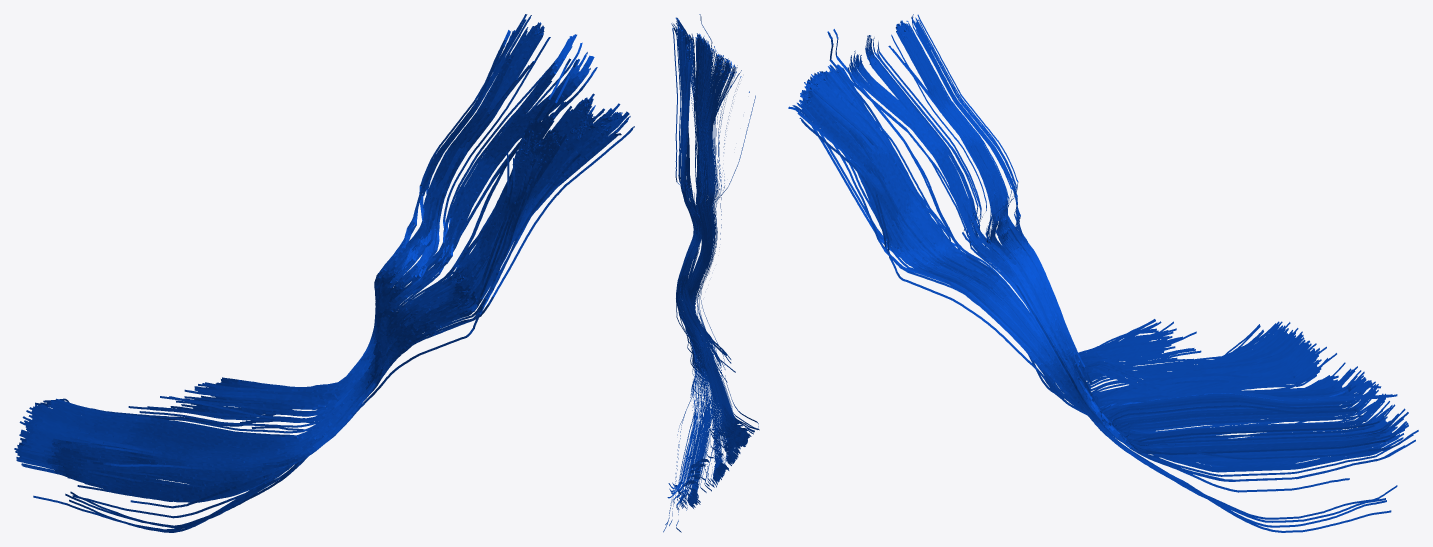
File: L_mLF.glb
3 renders of one model, left to right at view 1: azimuth 30°, elevation 25°; view 2: azimuth 150°, elevation 25°; view 3: azimuth 270°, elevation 25°, orthographic. The views are drawn at different scales.
Parts seen in each view (by area): view 1: tracts; view 2: tracts; view 3: tracts.
Part boxes in pixels (box(x1,y1,x2,y2)): tracts: box(14, 14, 634, 532); tracts: box(663, 14, 759, 532); tracts: box(788, 14, 1418, 532).
Size of the model in its own units: 56.42 by 91.98 by 86.6.
